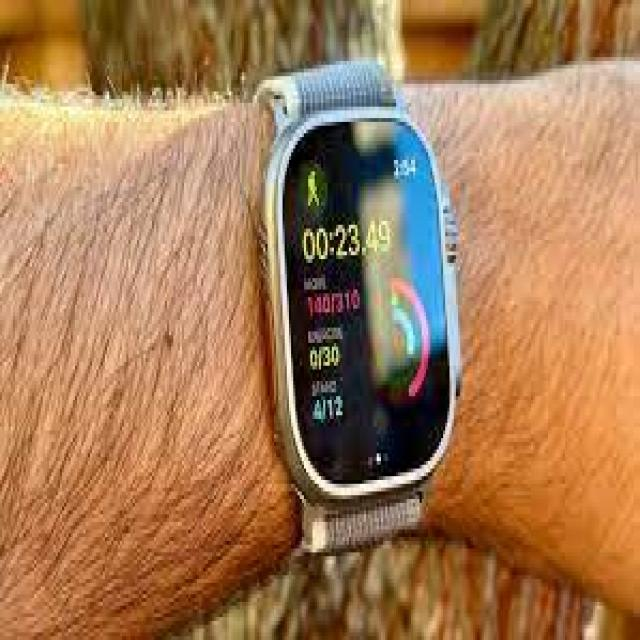objects: (260, 63, 463, 557)
